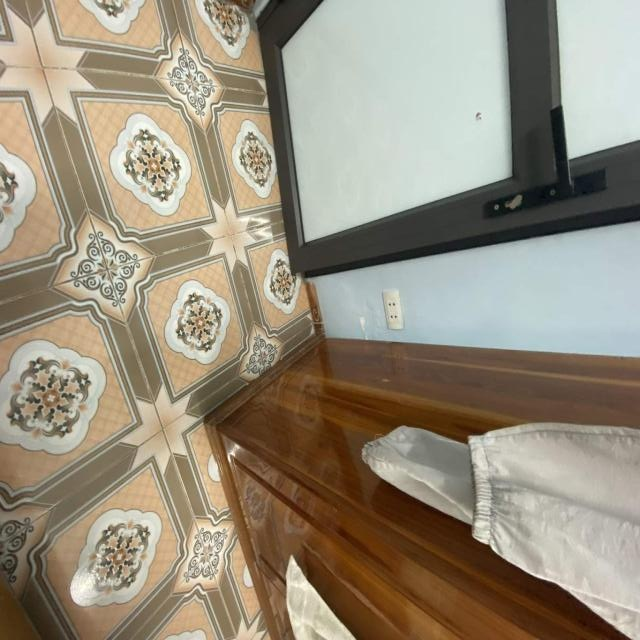outlet: (382, 289, 405, 330)
